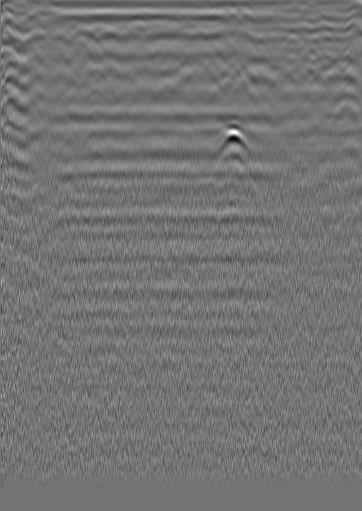가스: (210, 120, 256, 163)
상수: (313, 15, 333, 35)
오수: (29, 7, 49, 27)
우수: (178, 19, 198, 39)
